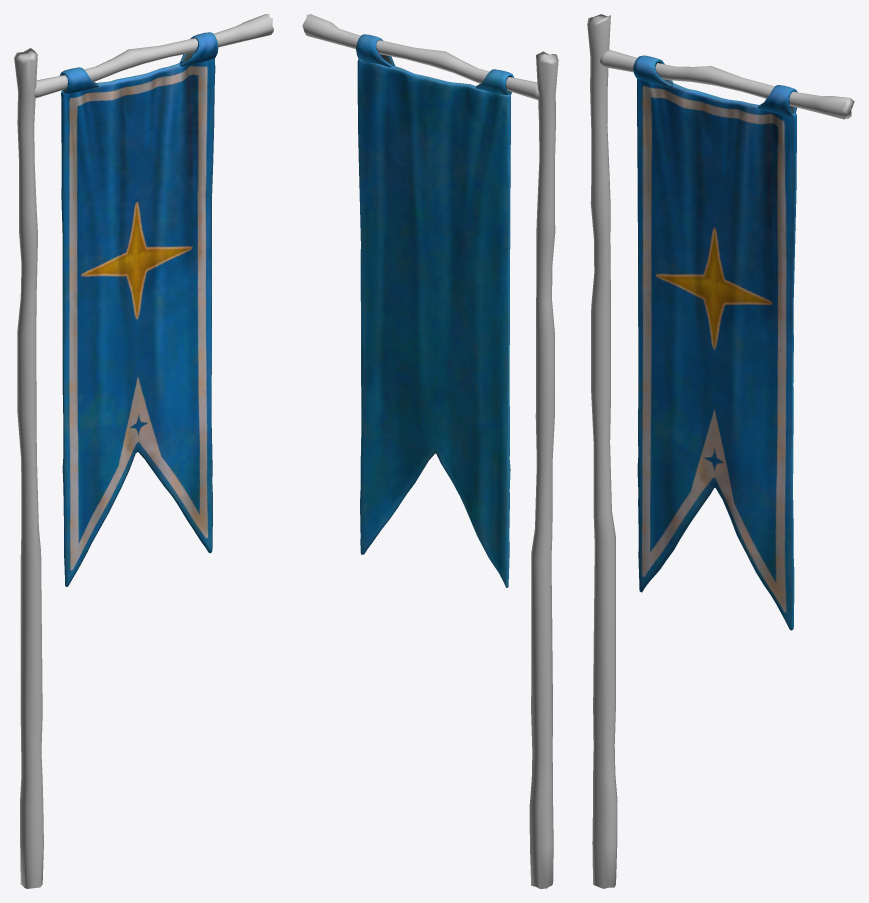
The picture shows the model from 3 angles, left to right: view 1: azimuth 30°, elevation 25°; view 2: azimuth 150°, elevation 25°; view 3: azimuth 330°, elevation 25°; orthographic projection. The views are drawn at different scales.
Parts seen in each view (by area): view 1: SM_Single_Banner_Saradomin_03v2_LOD0; view 2: SM_Single_Banner_Saradomin_03v2_LOD0; view 3: SM_Single_Banner_Saradomin_03v2_LOD0.
Part boxes in pixels (x1=…): SM_Single_Banner_Saradomin_03v2_LOD0: x1=14, y1=14, x2=273, y2=888; SM_Single_Banner_Saradomin_03v2_LOD0: x1=302, y1=14, x2=558, y2=888; SM_Single_Banner_Saradomin_03v2_LOD0: x1=587, y1=14, x2=854, y2=888.
Bounding box in the file's own units: 1.39 × 4.39 × 0.1182.
